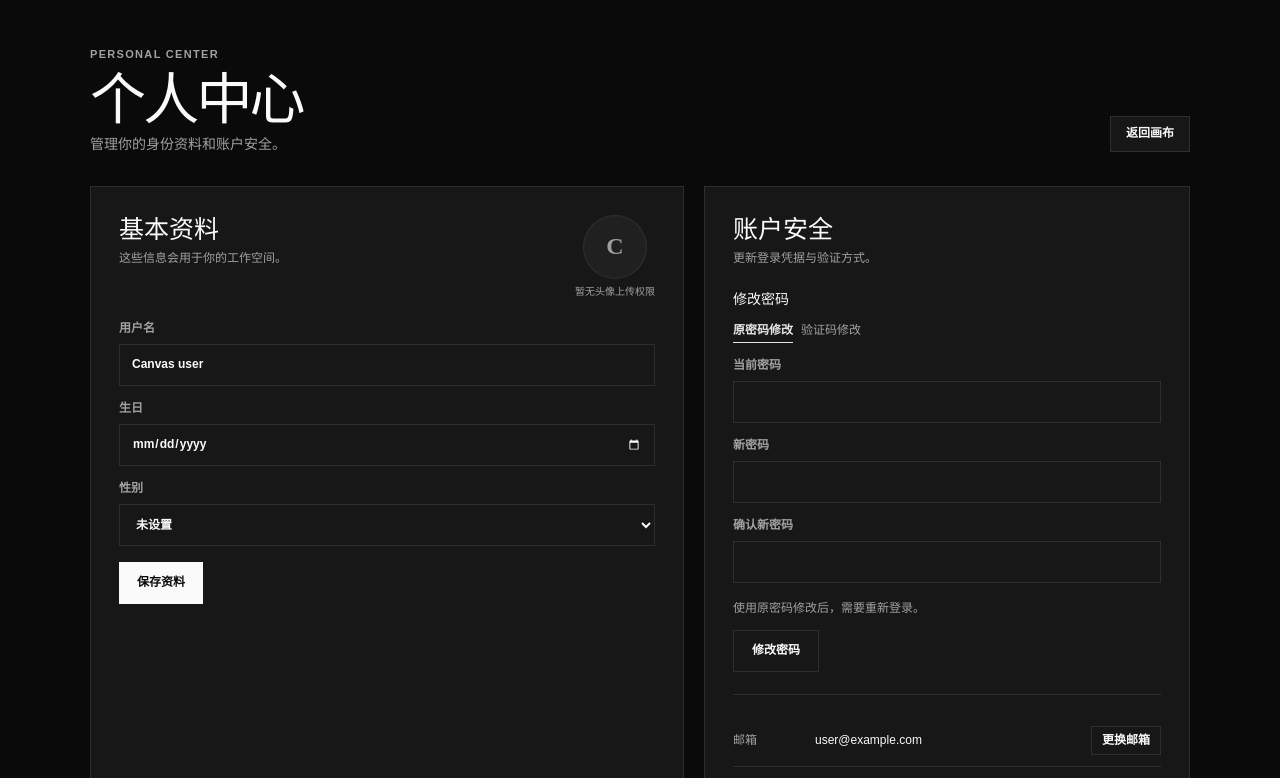
Test: Canvas personal center › loads and saves profile through shared API without changing identity fields
Replace the text in the field labelled "用户名" with "New name": coordinates (387, 365) [119,344,655,386]
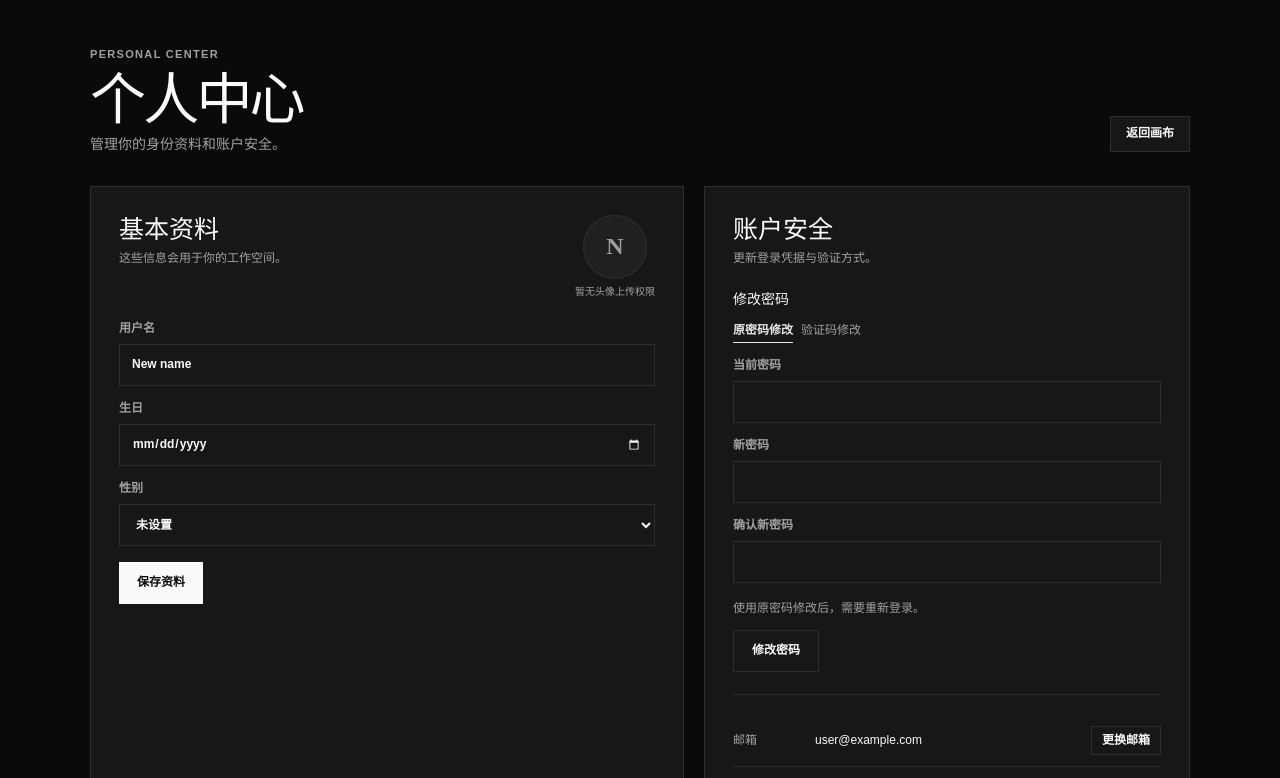
Click the button "保存资料": coordinates (161, 583) [119,562,203,604]
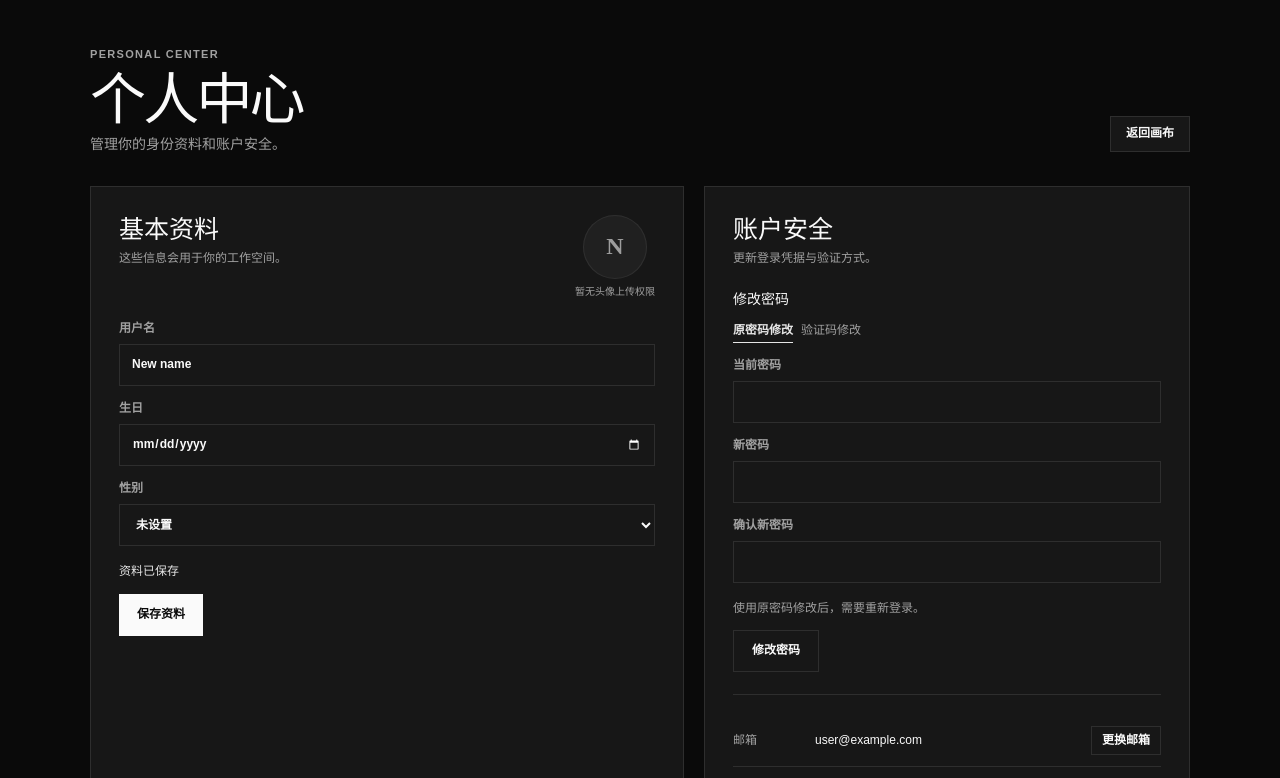
expect the message reads "资料已保存": met, box [119,564,179,578]
